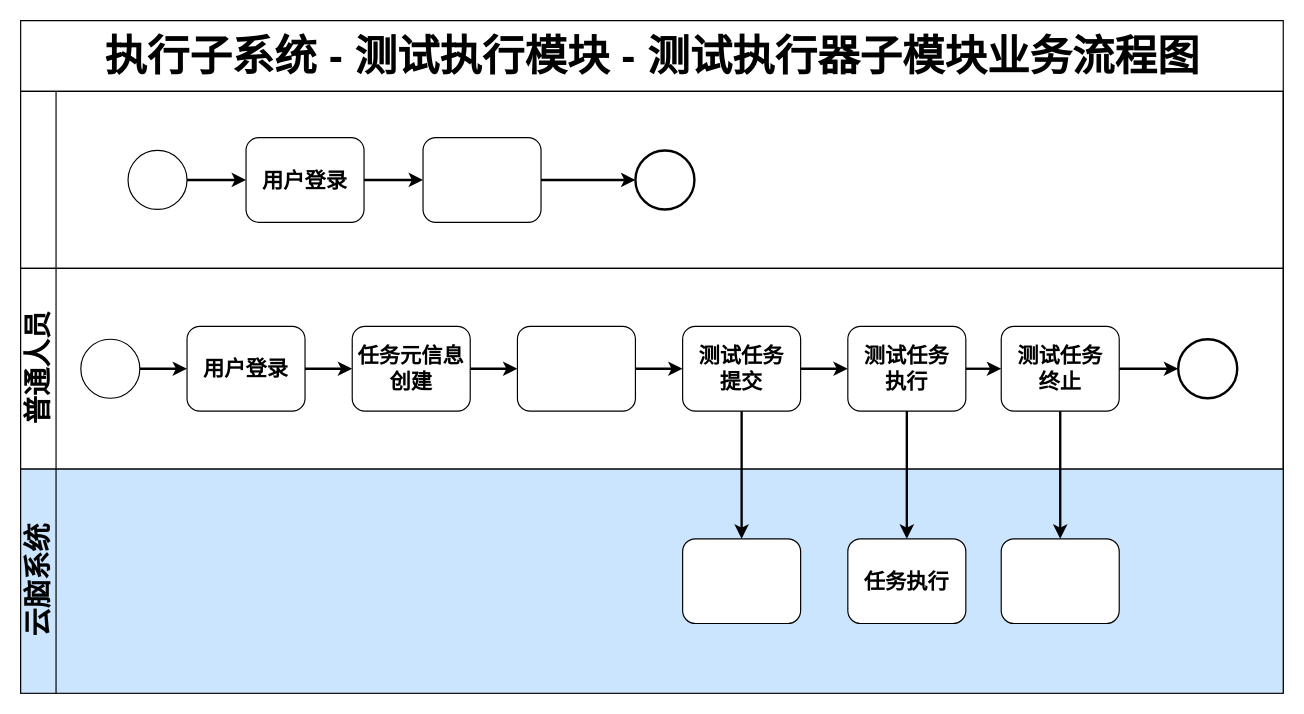
Some shapes in this 1304 by 714 pixel diagram are drawn without their labels. Here are the shapes that lost their labels. From the top down, the box of each, then its label:
(422, 136, 541, 222): 系统监控
(19, 90, 1283, 268): 系统管理员
(516, 325, 635, 411): 测试方案 选择
(681, 538, 801, 624): 测试任务
(1000, 538, 1119, 624): 任务终止
